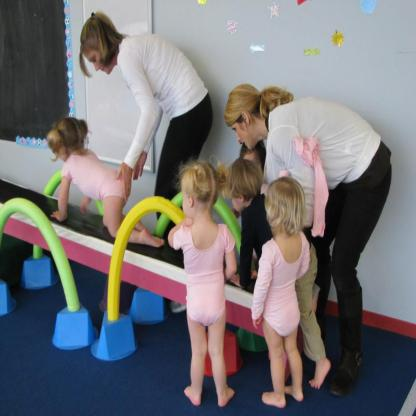face: (227, 112, 257, 154), (81, 42, 115, 78)
